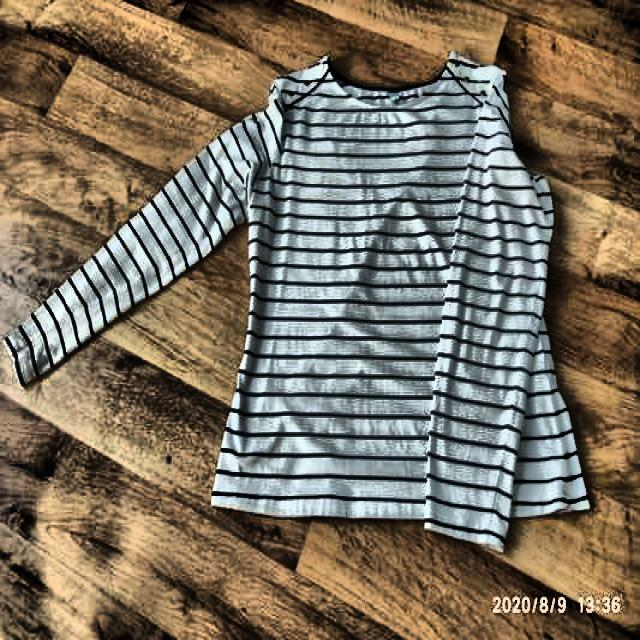clothes: (9, 51, 596, 554)
